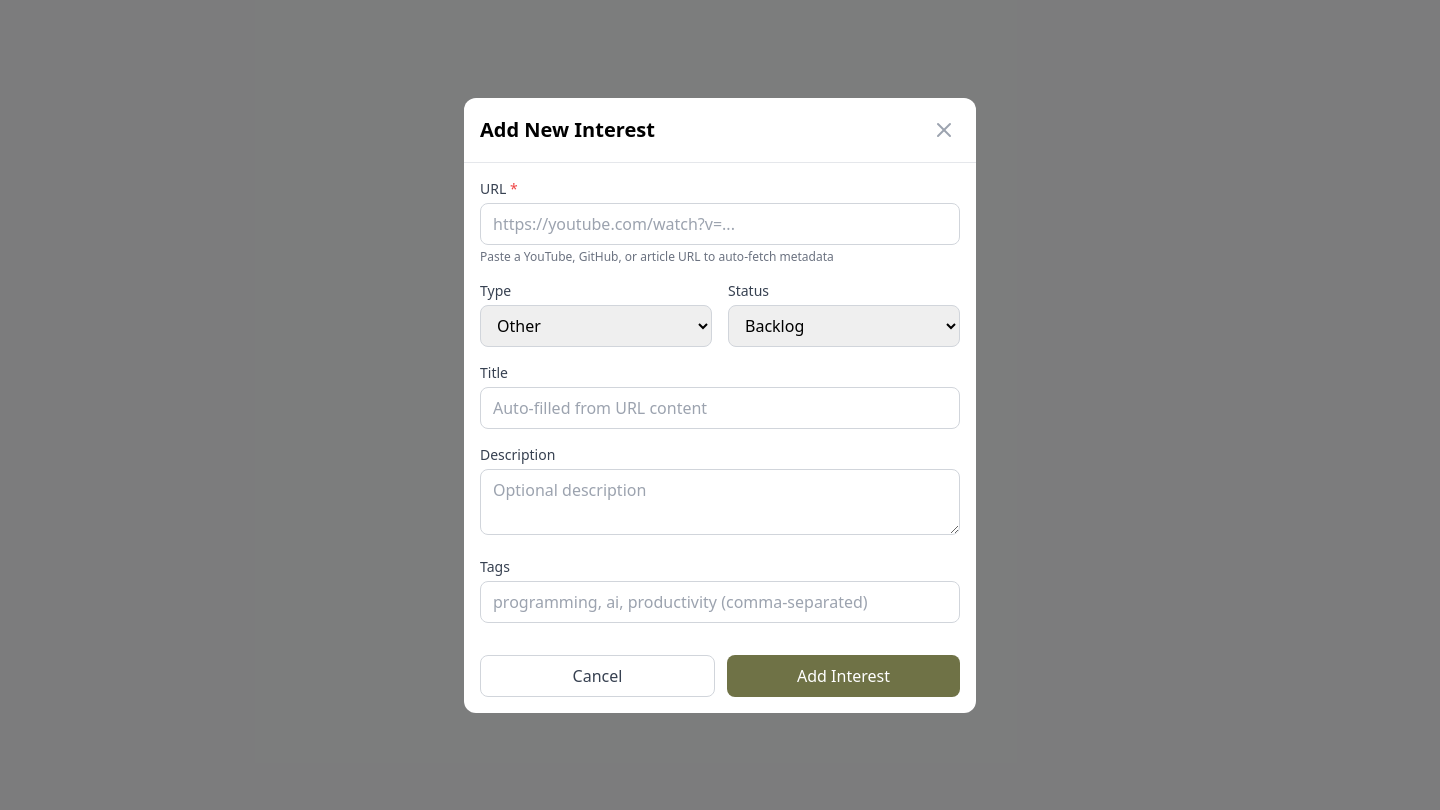
AddInterestModal › URL input › auto-detects type from URL
Type "https://youtube.com/watch?v=abc" into the field with placeholder "https://youtube.com/watch?v=..." at (720, 224), box [480,202,960,244]
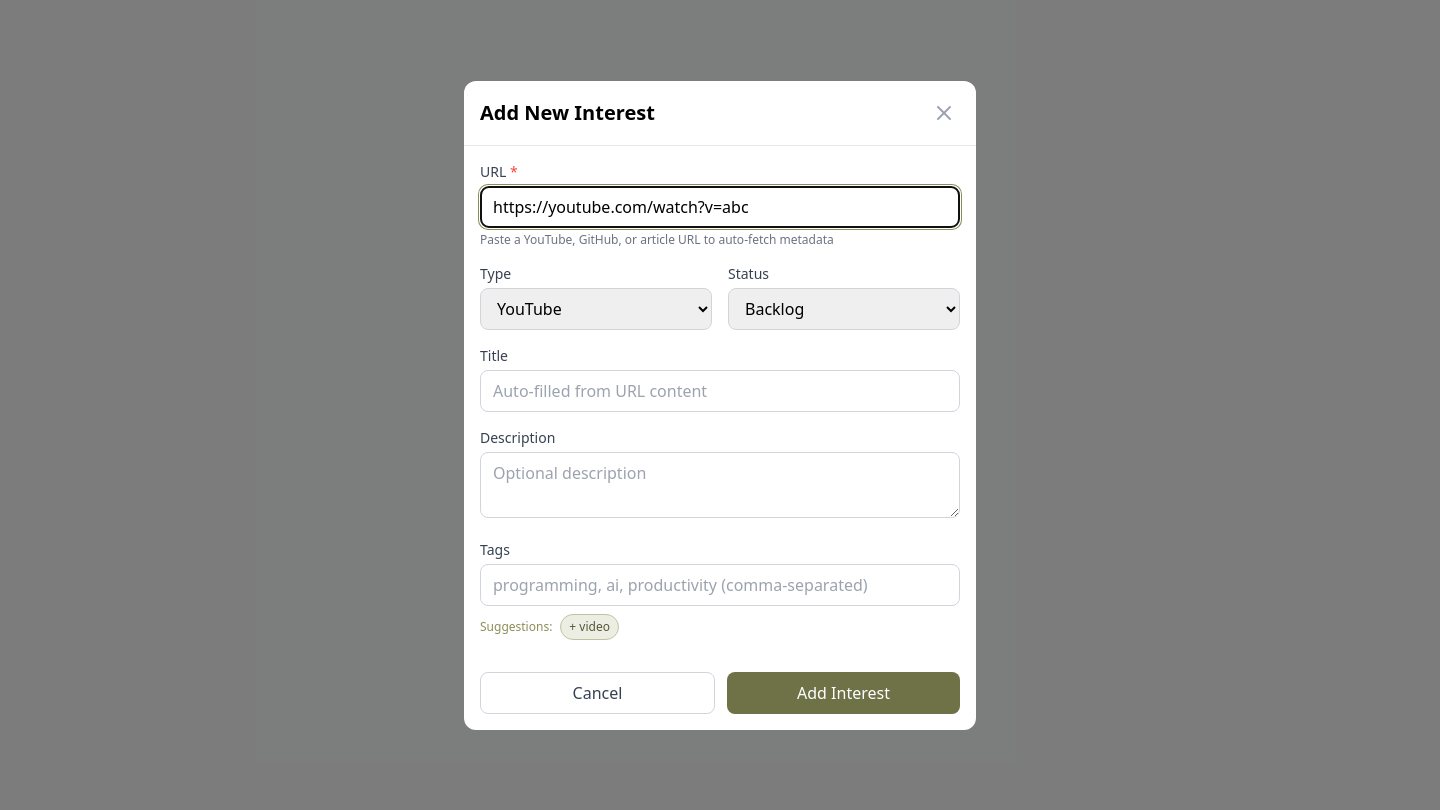
Expected: the dropdown below "Type" shows "YouTube", [480,288,712,330]
